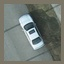car: (18, 14, 45, 51)
